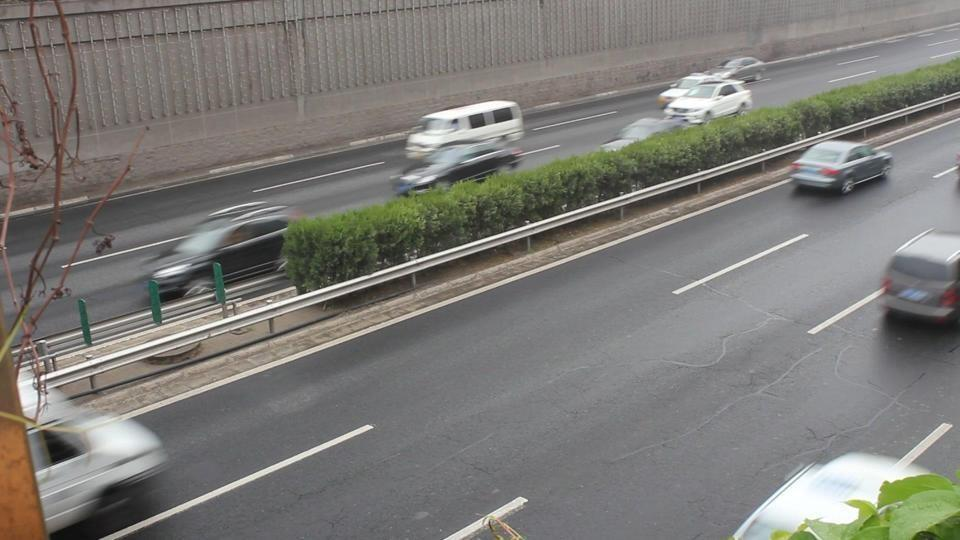car: (730, 449, 960, 538), (24, 408, 172, 536), (151, 204, 291, 302), (879, 227, 960, 329), (403, 100, 525, 161), (392, 142, 524, 196), (788, 140, 895, 195), (657, 77, 754, 125), (701, 57, 768, 84)
